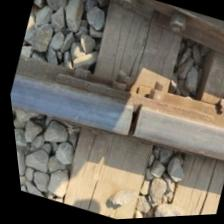person: (95, 89, 167, 155)
